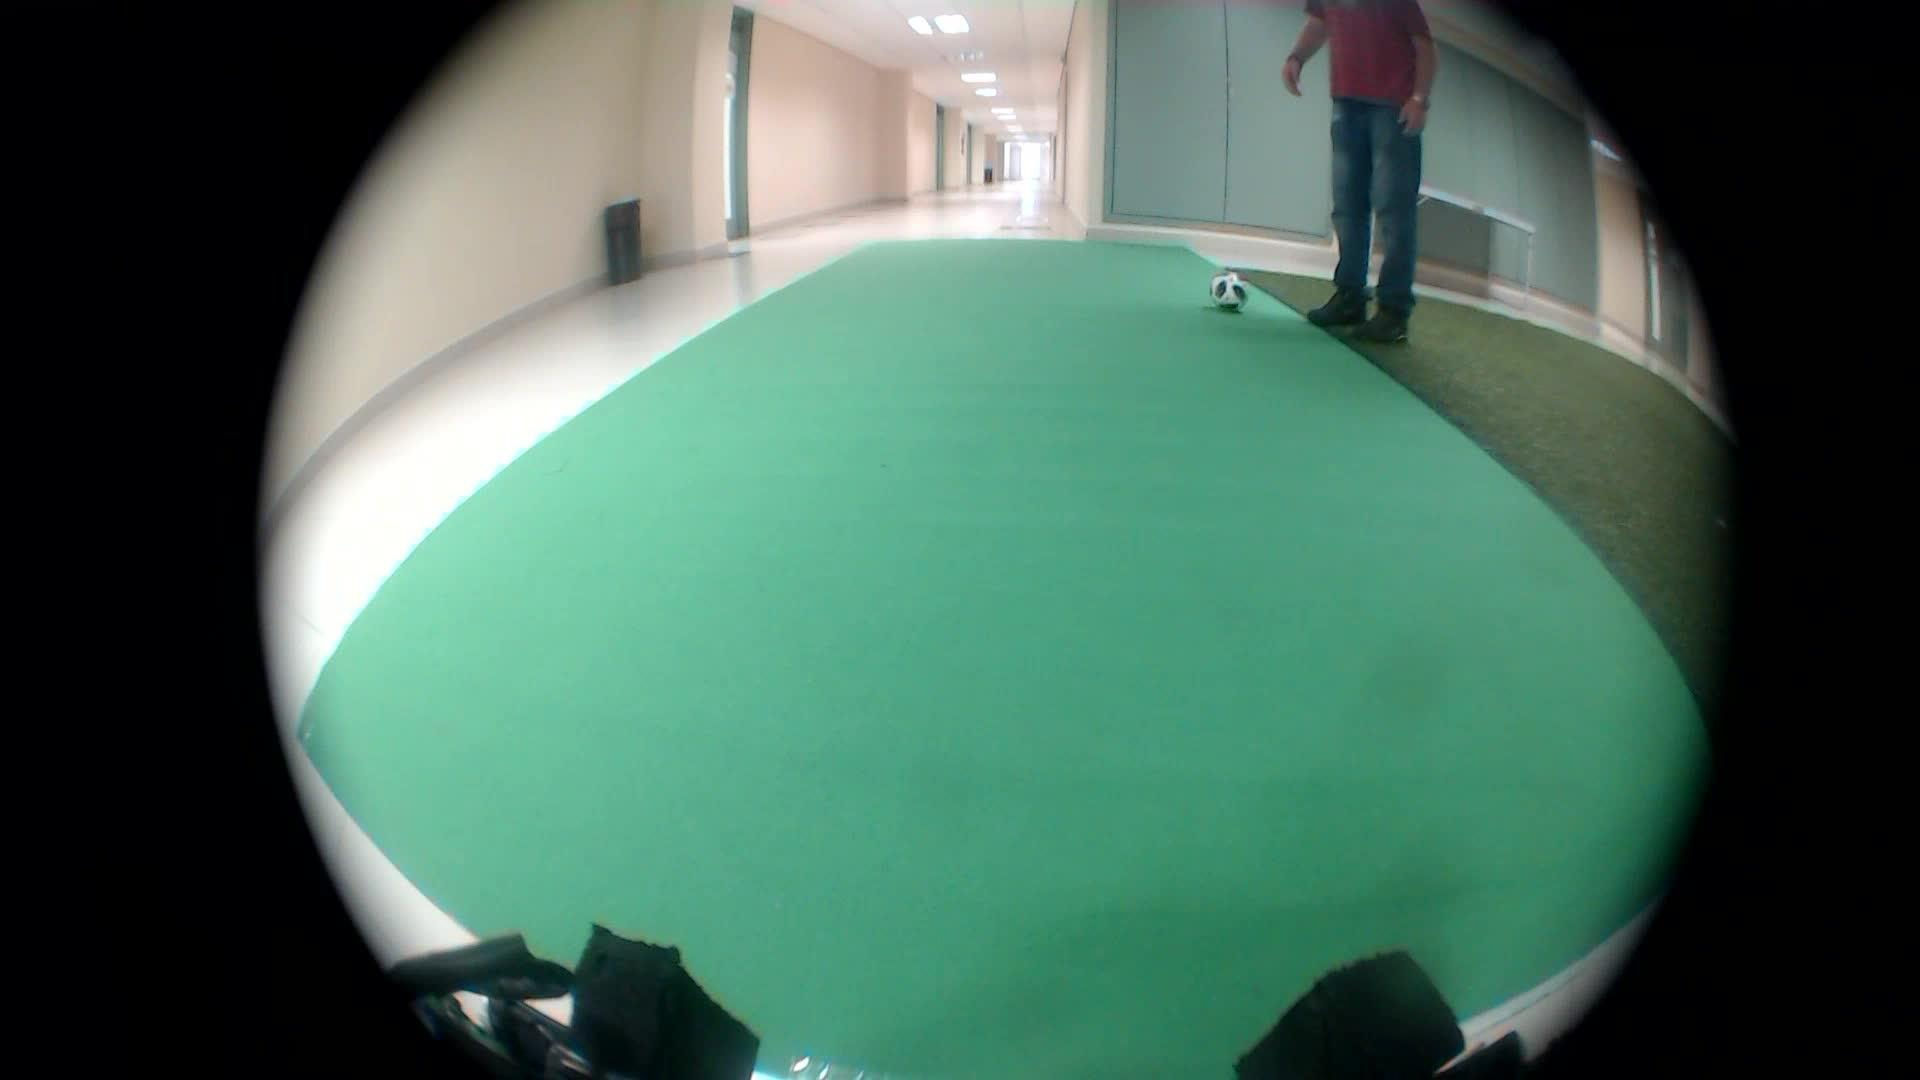ball: (1192, 253, 1255, 320)
